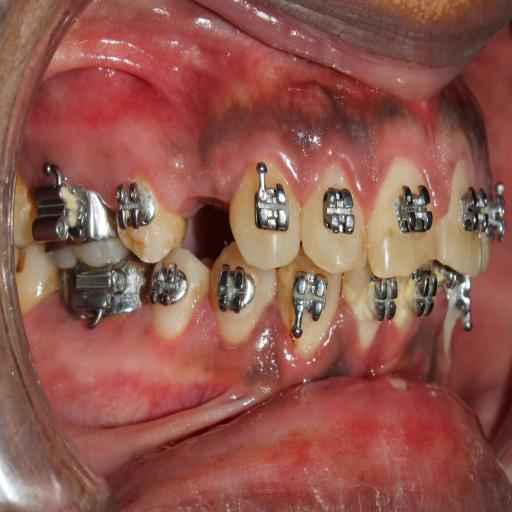correct_brace: (111, 163, 188, 265), (399, 177, 435, 241), (252, 180, 291, 238), (457, 182, 494, 240), (319, 186, 358, 238)
incorrect_brace: (302, 166, 368, 278), (116, 185, 155, 233)
